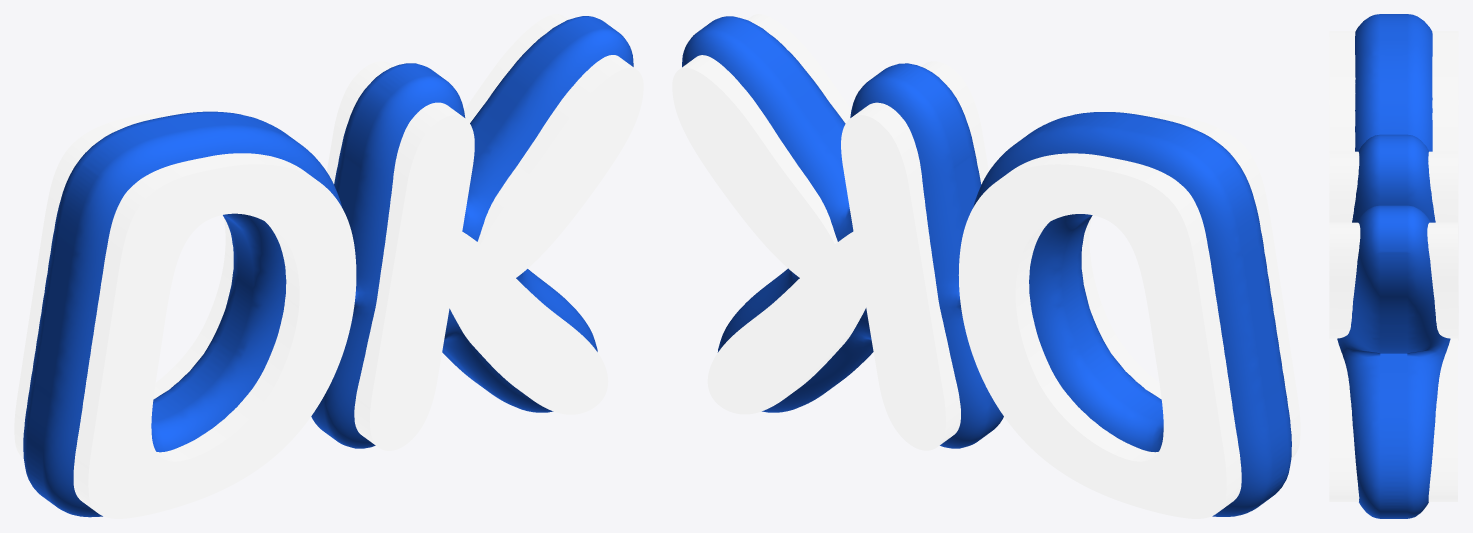
The picture shows the model from 3 angles, left to right: view 1: azimuth 30°, elevation 25°; view 2: azimuth 150°, elevation 25°; view 3: azimuth 270°, elevation 25°; orthographic projection. The views are drawn at different scales.
Visible parts, largest first — view 1: groupNumber_0_n3d (×2), groupNumber_1_n3d, groupNumber_0_n3d2, groupNumber_1_n3d2; view 2: groupNumber_0_n3d (×2), groupNumber_0_n3d2, groupNumber_1_n3d2, groupNumber_1_n3d; view 3: groupNumber_0_n3d (×2), groupNumber_1_n3d, groupNumber_1_n3d2, groupNumber_0_n3d2.
Boxes of the visible parts, x1,y1,x2,y2 form: groupNumber_0_n3d (×2): [23, 16, 633, 518]; groupNumber_1_n3d: [354, 55, 643, 450]; groupNumber_0_n3d2: [14, 110, 233, 458]; groupNumber_1_n3d2: [326, 14, 568, 183]; groupNumber_0_n3d (×2): [682, 16, 1300, 516]; groupNumber_0_n3d2: [958, 153, 1241, 518]; groupNumber_1_n3d2: [672, 55, 960, 450]; groupNumber_1_n3d: [747, 14, 988, 184]; groupNumber_0_n3d (×2): [1329, 14, 1450, 518]; groupNumber_1_n3d: [1329, 151, 1360, 501]; groupNumber_1_n3d2: [1427, 151, 1457, 501]; groupNumber_0_n3d2: [1432, 31, 1458, 340].
Bounding box in the file's own units: 17.24 × 10.34 × 3.76.
